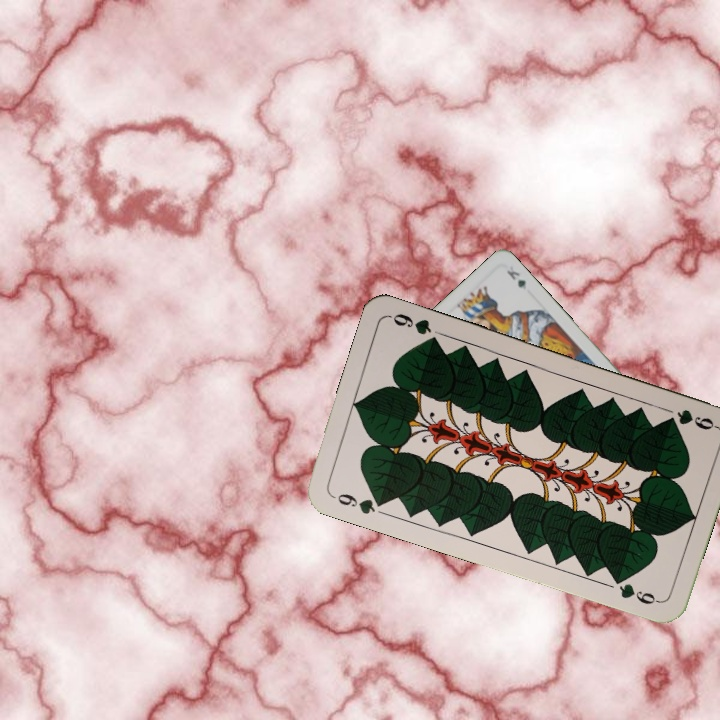G9: (328, 489, 389, 517), (673, 405, 719, 433)
